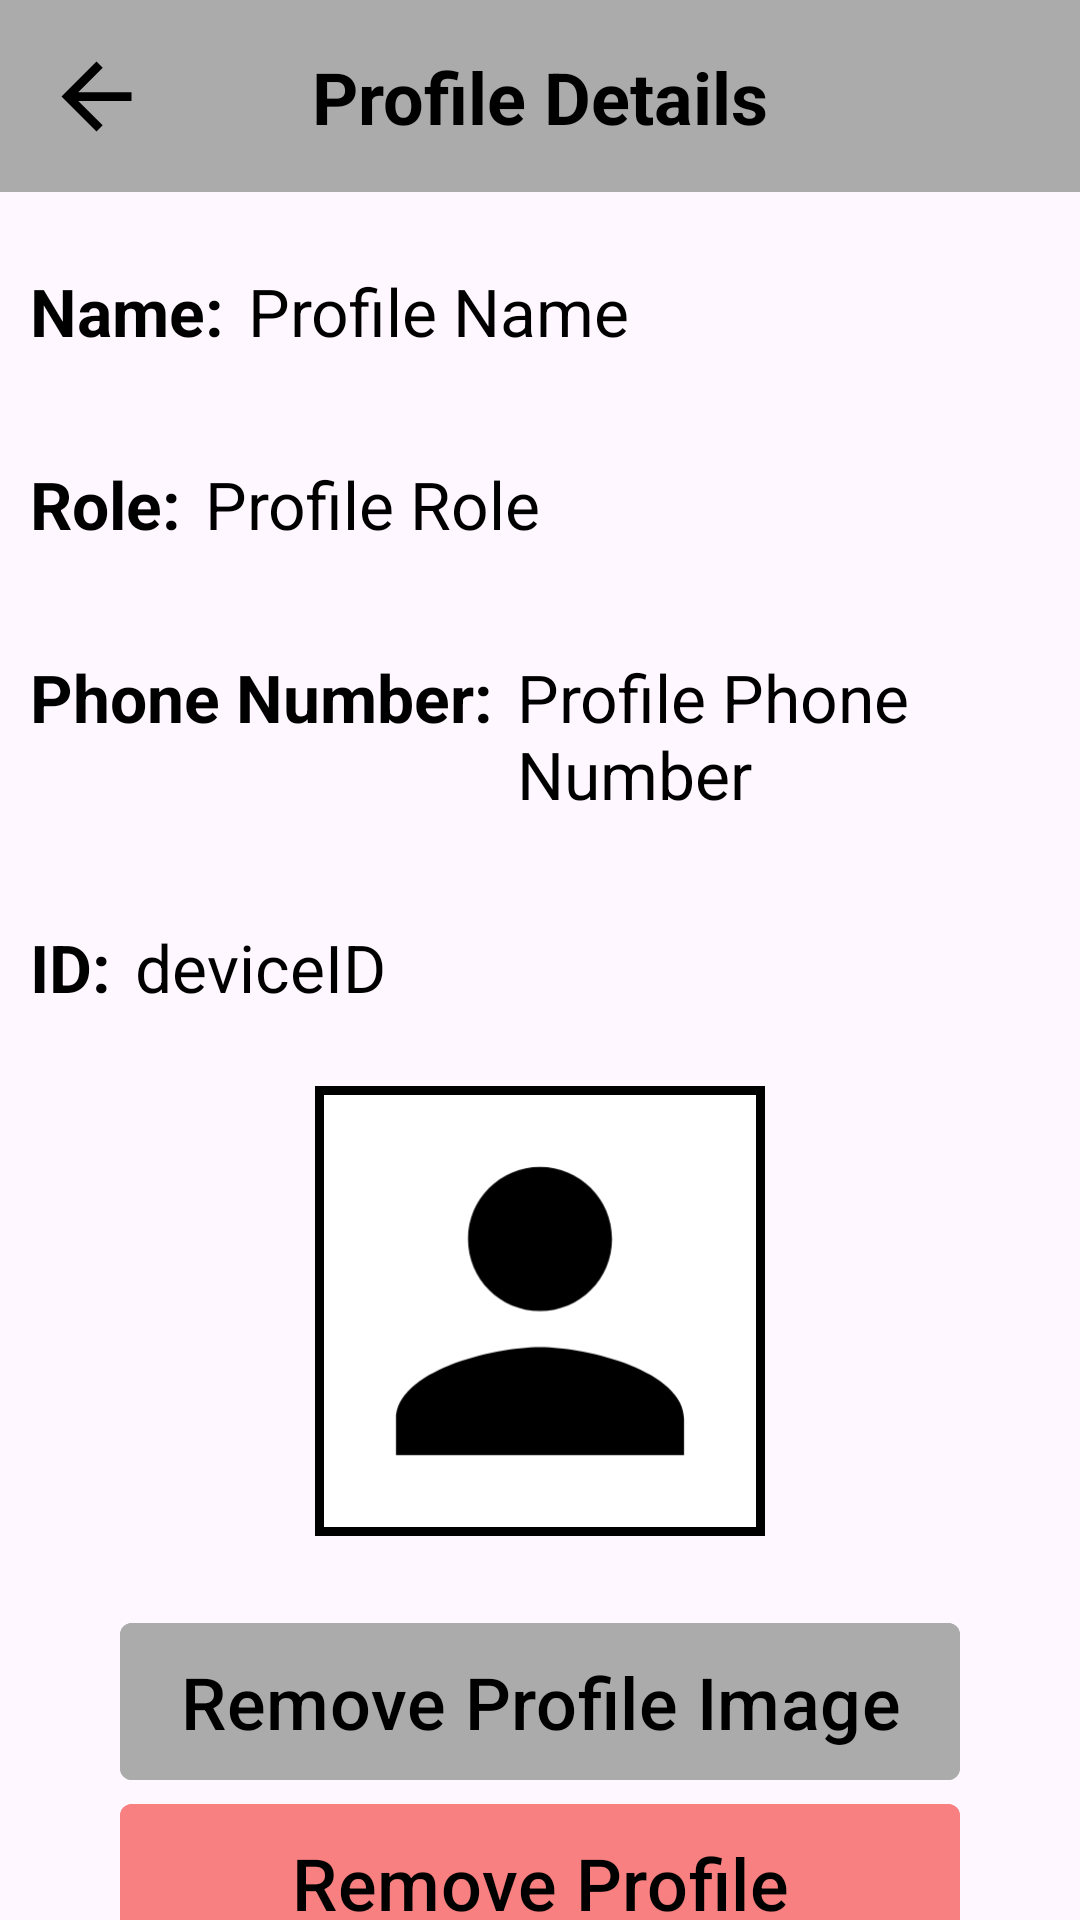

Where icons sit on this 1080w x 1920h app screen, as (x1, y1, x2, y2):
Go Back: (61, 61, 132, 132)
